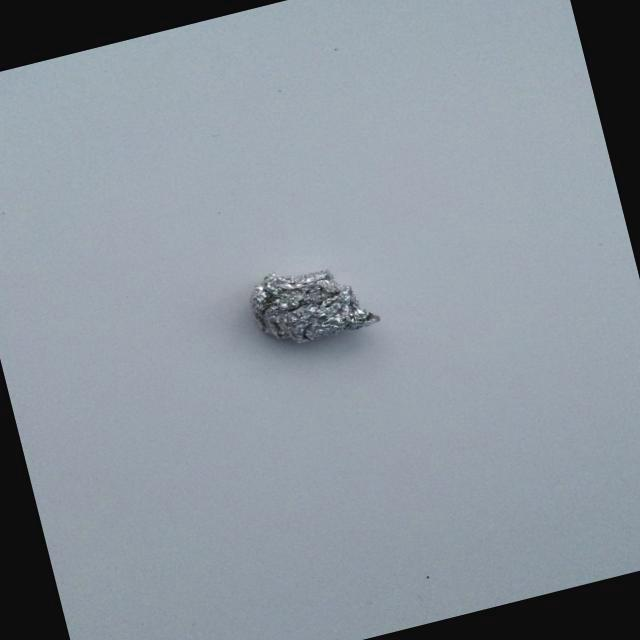metal: (237, 245, 396, 373)
